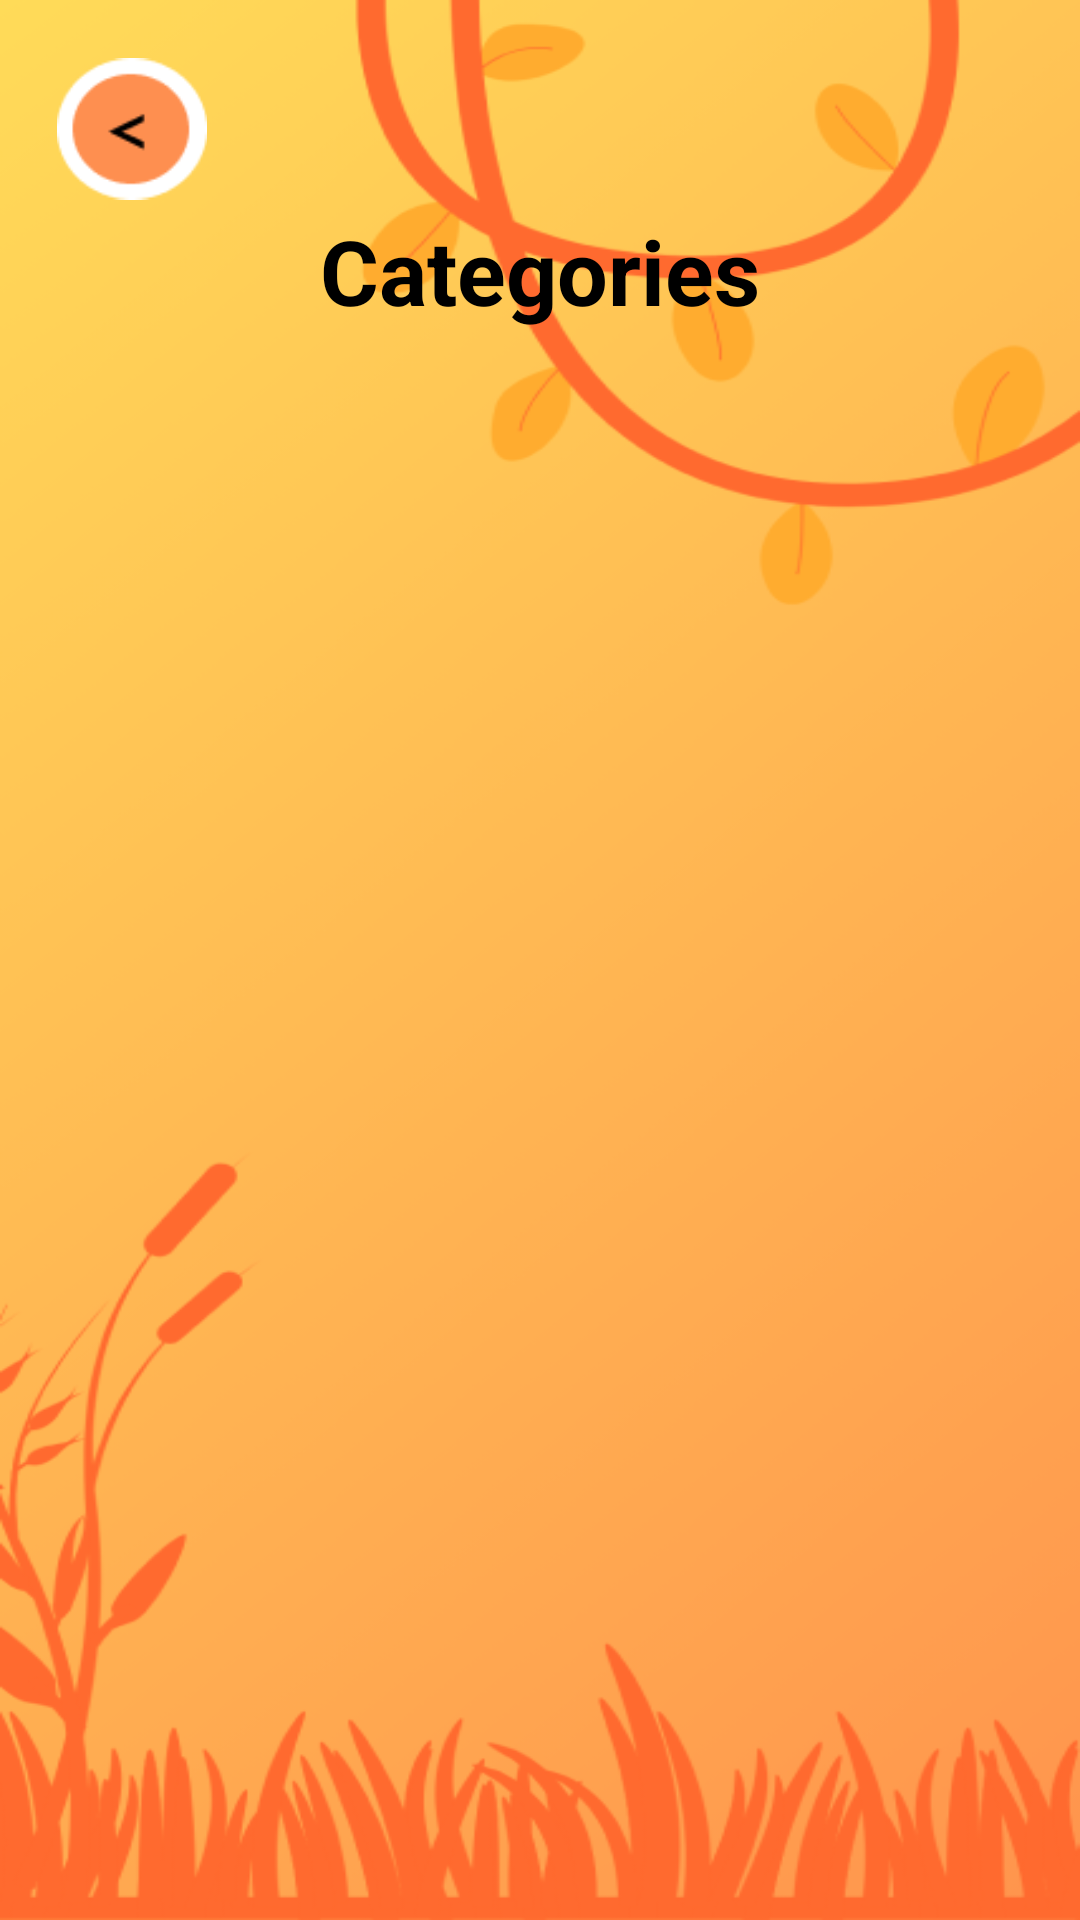

Screen size 1080w x 1920h. Icon name, then its center in pixels as point (x, y):
Back: point (132, 129)
